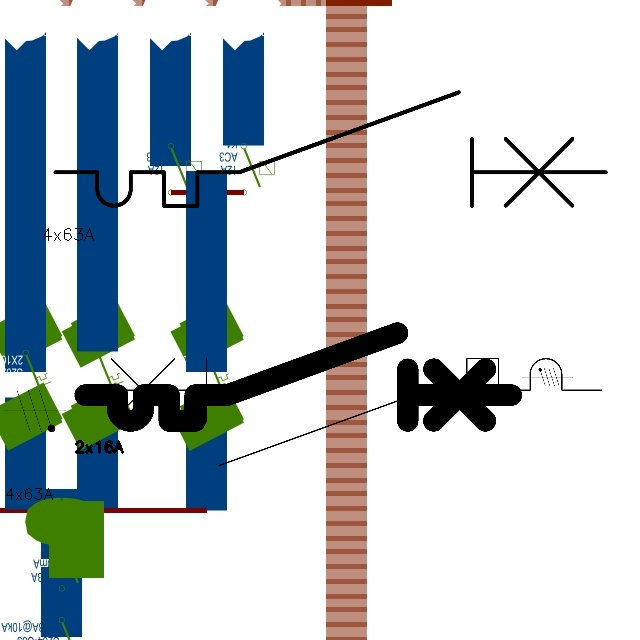interruptor_termomagnetico: (41, 78, 620, 220), (66, 345, 615, 479), (74, 322, 523, 432)
